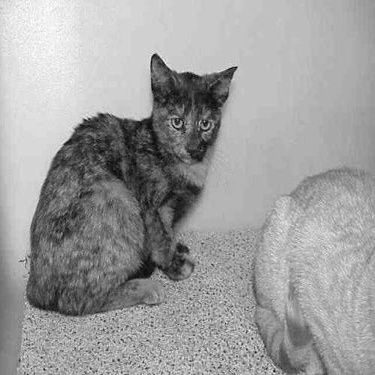cat: (13, 37, 237, 340), (239, 139, 373, 367)
